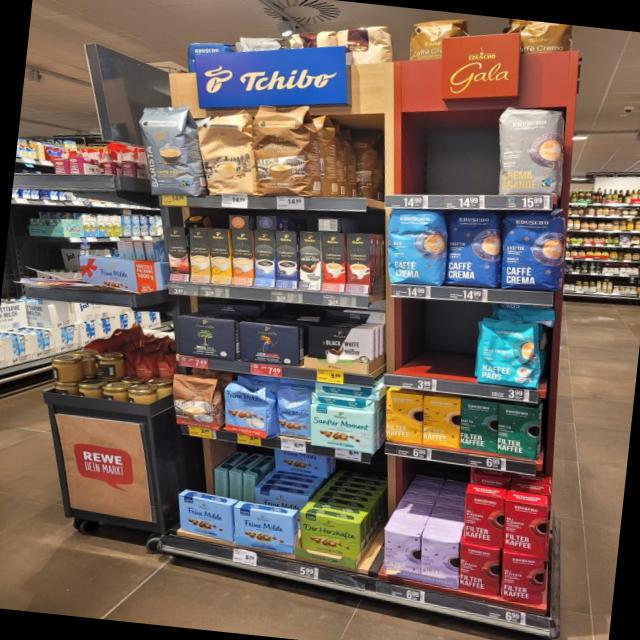BM Gemahlen: (176, 314, 237, 362)
BW Gemahlen: (305, 323, 372, 374)
Barista CC: (134, 102, 209, 198)
CC Mild: (193, 108, 260, 198)
CC Vollmundig: (167, 370, 230, 433)
CC Vollmundig 36 Pads: (250, 102, 322, 200)
FM 36 Pads: (224, 375, 278, 443)
FM Bohne: (276, 382, 312, 439)
FM Gemahlen: (233, 506, 294, 554), (177, 493, 233, 543), (272, 448, 327, 479)
Herzhatfe Mundig: (299, 511, 361, 561)
LG Gemahlen: (238, 319, 301, 367)
SM Gemahlen: (309, 403, 376, 454)
Simo CC Colombia: (162, 226, 190, 284)
Simo CCMild bigpack: (207, 227, 231, 287)
Simo CCVollmundig: (230, 226, 253, 288)
Simo Decaff: (187, 227, 210, 284)
Simo Es Elegant: (320, 231, 346, 295)
Simo Kaffee BW: (297, 230, 322, 291)
Simo Kaffee Kraft: (344, 232, 373, 295), (274, 229, 298, 290)
Simo Kaffee Mild: (252, 228, 275, 289)
